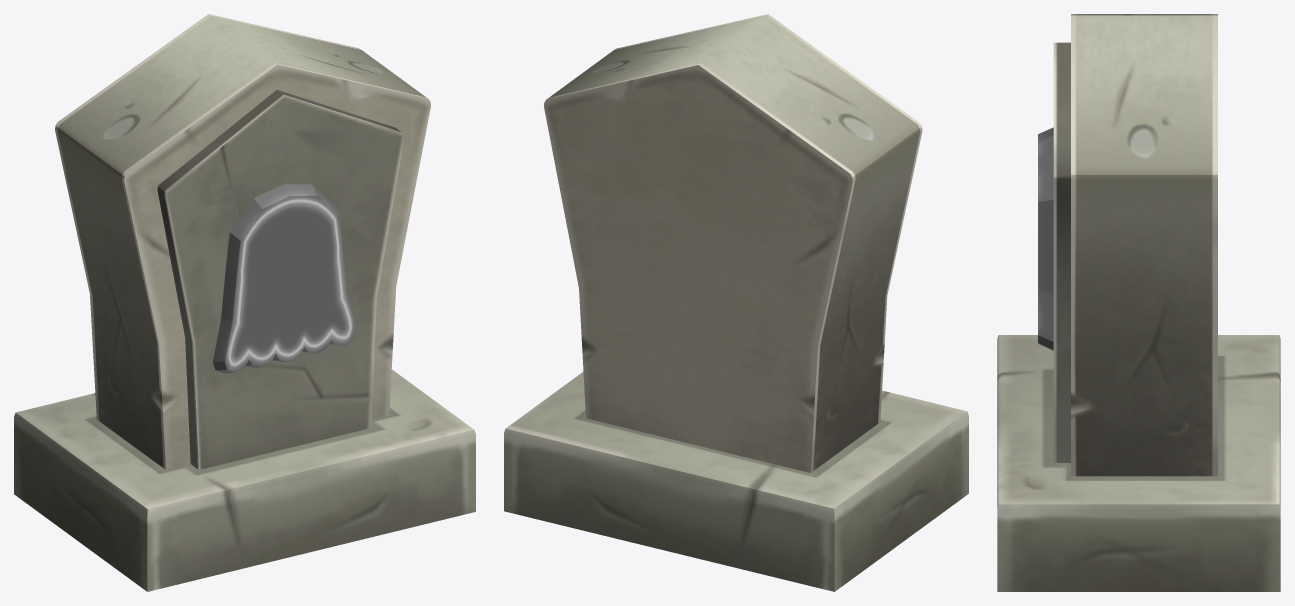
Rendered from Obstructing object (ghost).fbx.
The picture shows the model from 3 angles, left to right: view 1: azimuth 30°, elevation 25°; view 2: azimuth 150°, elevation 25°; view 3: azimuth 270°, elevation 25°; orthographic projection. The views are drawn at different scales.
Parts seen in each view (by area): view 1: Obstructing object (ghost); view 2: Obstructing object (ghost); view 3: Obstructing object (ghost).
Part boxes in pixels (x1,y1,x2,y2): Obstructing object (ghost): (14,14,475,591); Obstructing object (ghost): (504,14,968,591); Obstructing object (ghost): (997,14,1280,591).
Size of the model in its own units: 1571 by 2110 by 1105.
